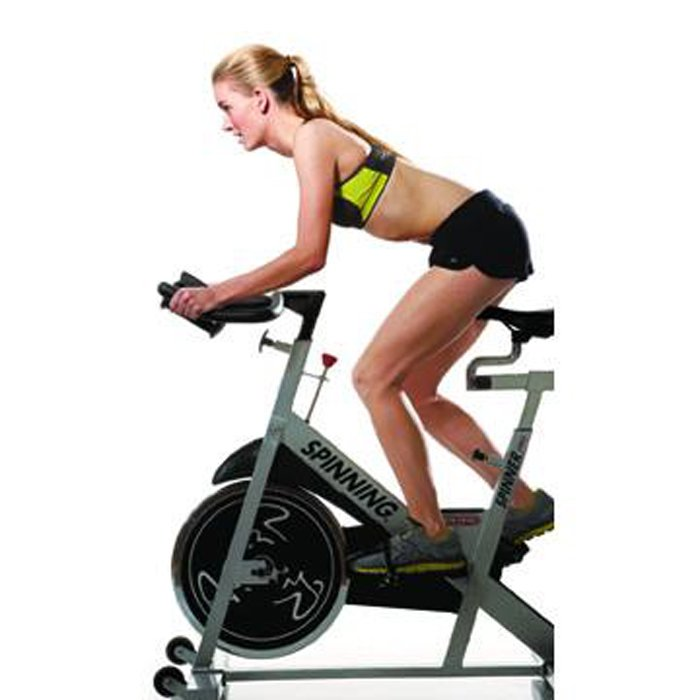gym_bike: (137, 265, 562, 700)
